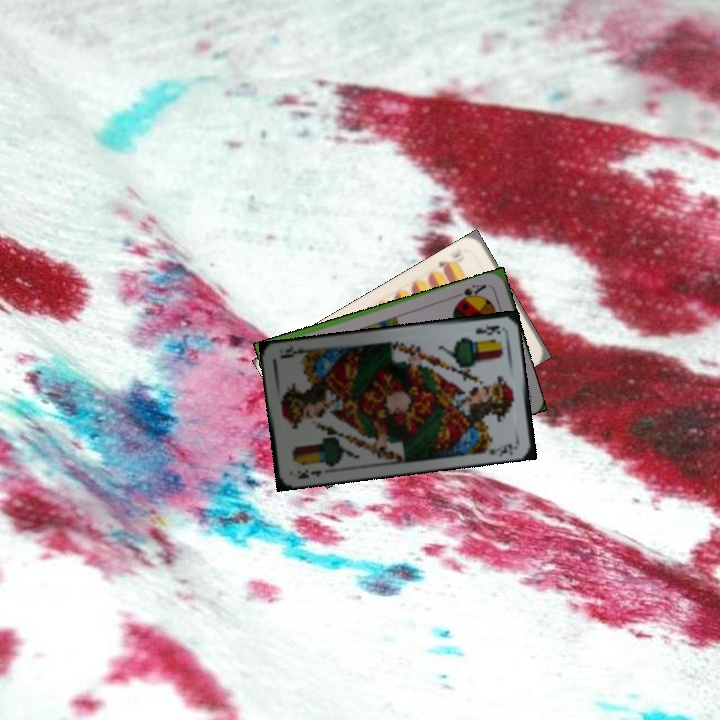E10: (434, 249, 467, 274)
EK: (472, 321, 502, 338), (294, 465, 325, 481)
SA: (452, 280, 489, 305)
